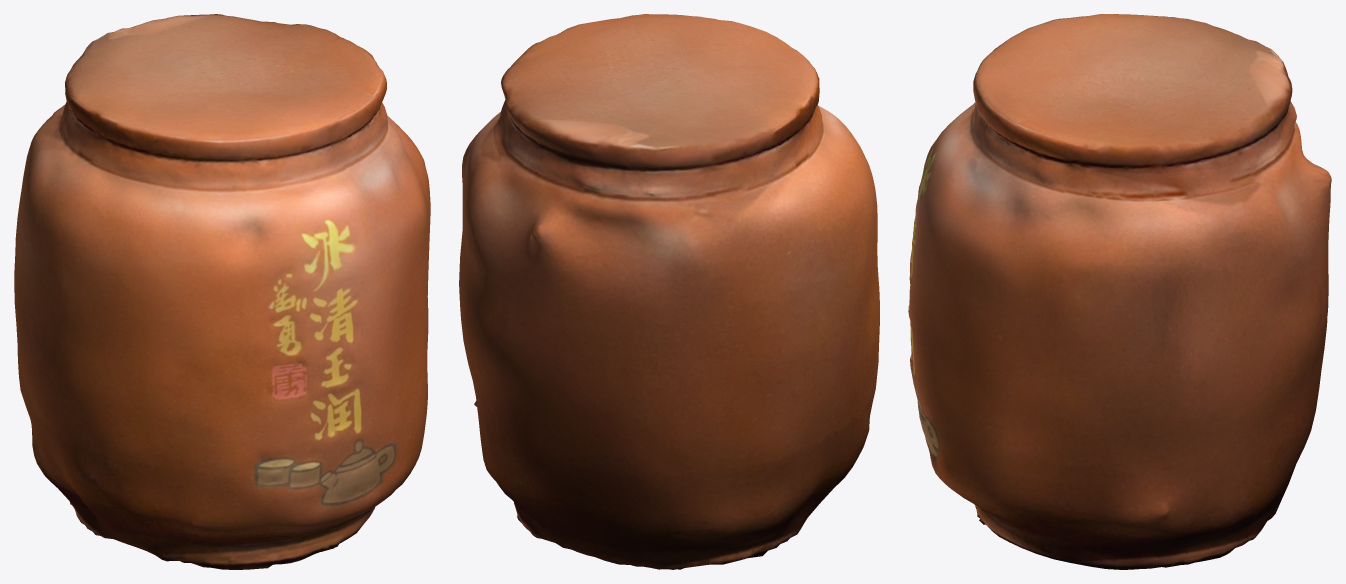
Rendered from next.glb.
3 renders of one model, left to right at view 1: azimuth 30°, elevation 25°; view 2: azimuth 150°, elevation 25°; view 3: azimuth 270°, elevation 25°, orthographic.
Size of the model in its own units: 0.0815 by 0.0948 by 0.0819.
Materials: 1 (1 with a texture image).
